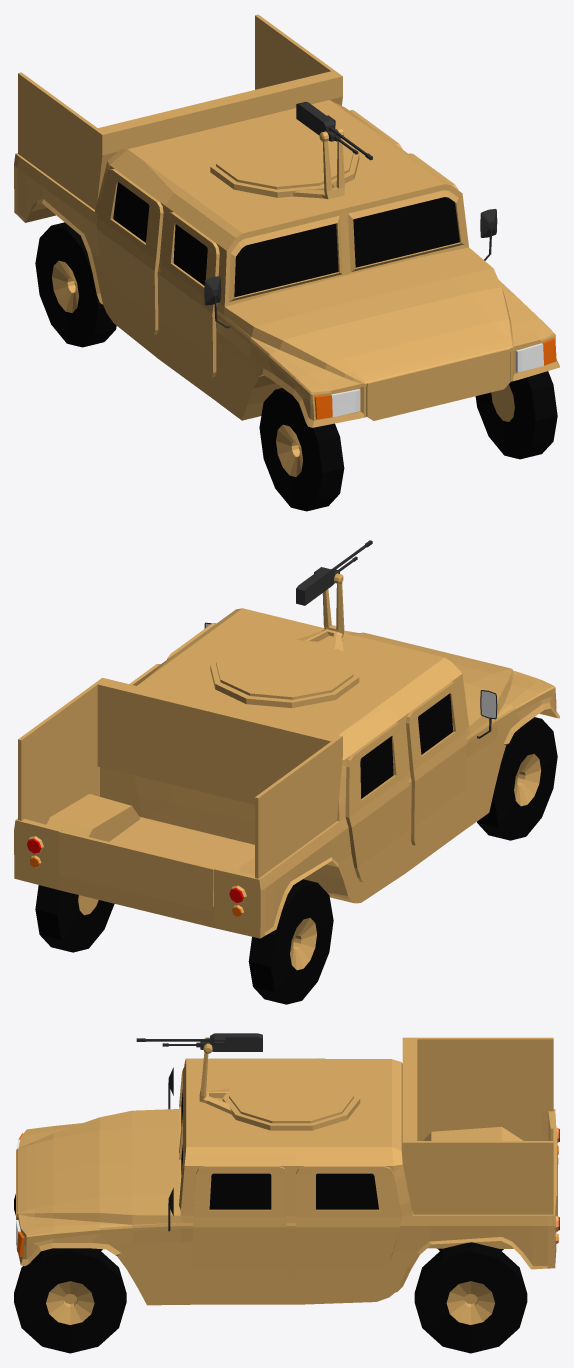
3 renders of one model, top to bottom at view 1: azimuth 30°, elevation 25°; view 2: azimuth 150°, elevation 25°; view 3: azimuth 270°, elevation 25°, orthographic. The views are drawn at different scales.
Visible parts, largest first — view 1: Plane.036, Plane.037, Plane.044, Cylinder.018, Cylinder.017, Plane.040, Cylinder.016, Cube.009, Cube.008; view 2: Plane.036, Plane.037, Plane.044, Cylinder.017, Plane.039, Plane.040, Cylinder.018, Cylinder.019, Cube.009, Cube.008; view 3: Plane.036, Plane.043, Plane.042, Cylinder.019, Cylinder.016, Plane.040, Cube.008, Cube.009.
Part boxes in pixels (<box>): Plane.036: <box>14,14,559,427</box>; Plane.037: <box>97,169,163,335</box>; Plane.044: <box>160,212,219,377</box>; Cylinder.018: <box>259,388,344,511</box>; Cylinder.017: <box>35,222,116,347</box>; Plane.040: <box>216,128,353,189</box>; Cylinder.016: <box>475,371,557,459</box>; Cube.009: <box>293,128,344,199</box>; Cube.008: <box>296,101,372,160</box>; Plane.036: <box>14,608,559,938</box>; Plane.037: <box>345,722,409,882</box>; Plane.044: <box>406,681,467,845</box>; Cylinder.017: <box>248,879,333,1004</box>; Plane.039: <box>58,830,215,910</box>; Plane.040: <box>216,638,353,699</box>; Cylinder.018: <box>477,717,557,840</box>; Cylinder.019: <box>35,885,114,952</box>; Cube.009: <box>296,573,344,651</box>; Cube.008: <box>296,540,372,605</box>; Plane.036: <box>16,1037,559,1305</box>; Plane.043: <box>296,1166,401,1286</box>; Plane.042: <box>193,1166,286,1286</box>; Cylinder.019: <box>414,1242,527,1353</box>; Cylinder.016: <box>14,1248,126,1353</box>; Plane.040: <box>229,1070,353,1123</box>; Cube.008: <box>136,1033,262,1051</box>; Cube.009: <box>199,1037,231,1114</box>.
Size of the model in its own units: 242 by 236 by 437.
